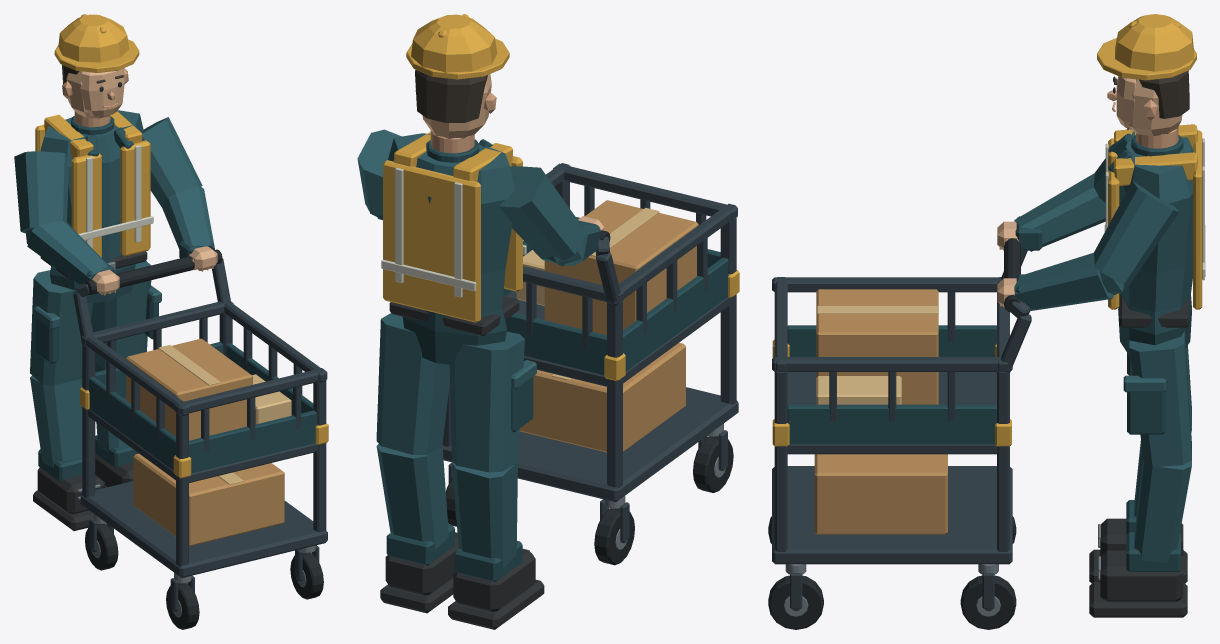
Rendered from picker-cart.glb.
3 renders of one model, left to right at view 1: azimuth 30°, elevation 25°; view 2: azimuth 150°, elevation 25°; view 3: azimuth 270°, elevation 25°, orthographic. The views are drawn at different scales.
Parts seen in each view (by area): view 1: picker-cart__material_00, picker-cart__material_08, picker-cart__material_05, picker-cart__material_01, picker-cart__material_02, picker-cart__material_04, picker-cart__material_07, picker-cart__material_11, picker-cart__material_06, picker-cart__material_12, picker-cart__material_09, picker-cart__material_03; view 2: picker-cart__material_08, picker-cart__material_00, picker-cart__material_02, picker-cart__material_05, picker-cart__material_01, picker-cart__material_07, picker-cart__material_04, picker-cart__material_10, picker-cart__material_12, picker-cart__material_06, picker-cart__material_11, picker-cart__material_09 (+1 smaller); view 3: picker-cart__material_00, picker-cart__material_08, picker-cart__material_05, picker-cart__material_01, picker-cart__material_02, picker-cart__material_07, picker-cart__material_04, picker-cart__material_06, picker-cart__material_11, picker-cart__material_10, picker-cart__material_03, picker-cart__material_09 (+1 smaller).
Boxes of the visible parts, x1,y1,x2,y2 form: picker-cart__material_00: (73, 254, 327, 611); picker-cart__material_08: (14, 110, 214, 467); picker-cart__material_05: (126, 338, 284, 546); picker-cart__material_01: (35, 116, 316, 481); picker-cart__material_02: (35, 14, 328, 478); picker-cart__material_04: (85, 249, 323, 629); picker-cart__material_07: (33, 82, 147, 530); picker-cart__material_11: (66, 68, 217, 294); picker-cart__material_06: (158, 345, 291, 484); picker-cart__material_12: (78, 145, 153, 248); picker-cart__material_09: (62, 68, 213, 295); picker-cart__material_03: (77, 261, 315, 617); picker-cart__material_08: (357, 129, 601, 567); picker-cart__material_00: (442, 163, 738, 543); picker-cart__material_02: (383, 14, 739, 381); picker-cart__material_05: (519, 200, 698, 452); picker-cart__material_01: (386, 139, 728, 581); picker-cart__material_07: (380, 296, 544, 629); picker-cart__material_04: (446, 230, 733, 565); picker-cart__material_10: (415, 69, 487, 122); picker-cart__material_12: (381, 168, 526, 297); picker-cart__material_06: (516, 207, 659, 380); picker-cart__material_11: (422, 74, 604, 230); picker-cart__material_09: (415, 89, 496, 153); picker-cart__material_00: (772, 250, 1031, 611); picker-cart__material_08: (1014, 128, 1193, 563); picker-cart__material_05: (814, 289, 947, 534); picker-cart__material_01: (787, 133, 1191, 572); picker-cart__material_02: (772, 14, 1202, 446); picker-cart__material_07: (1089, 76, 1189, 617); picker-cart__material_04: (768, 238, 1020, 629); picker-cart__material_06: (816, 306, 937, 404); picker-cart__material_11: (997, 76, 1182, 307); picker-cart__material_10: (1114, 70, 1189, 118); picker-cart__material_03: (783, 524, 1100, 616); picker-cart__material_09: (999, 90, 1178, 306).
Size of the model in its own units: 0.6391 by 1.7 by 1.18.
